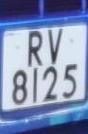1: (29, 65, 43, 108)
2: (40, 63, 61, 107)
5: (59, 58, 80, 106)
8: (9, 66, 31, 111)
R: (24, 25, 47, 69)
V: (45, 24, 67, 66)
